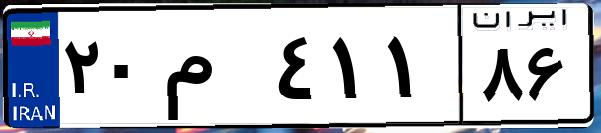0: (110, 28, 158, 98)
1: (385, 28, 445, 110), (330, 28, 385, 110)
2: (57, 26, 110, 100)
4: (270, 28, 330, 110)
6: (525, 38, 570, 115)
8: (475, 38, 525, 113)
م: (158, 20, 270, 120)
